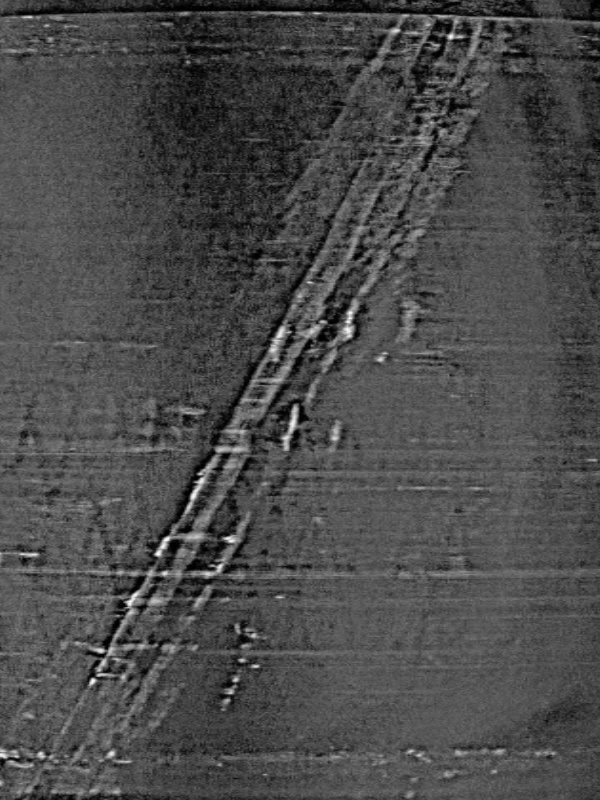splice_vulcanized: (3, 17, 508, 800)
